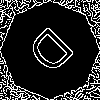D: (25, 25, 83, 83)
